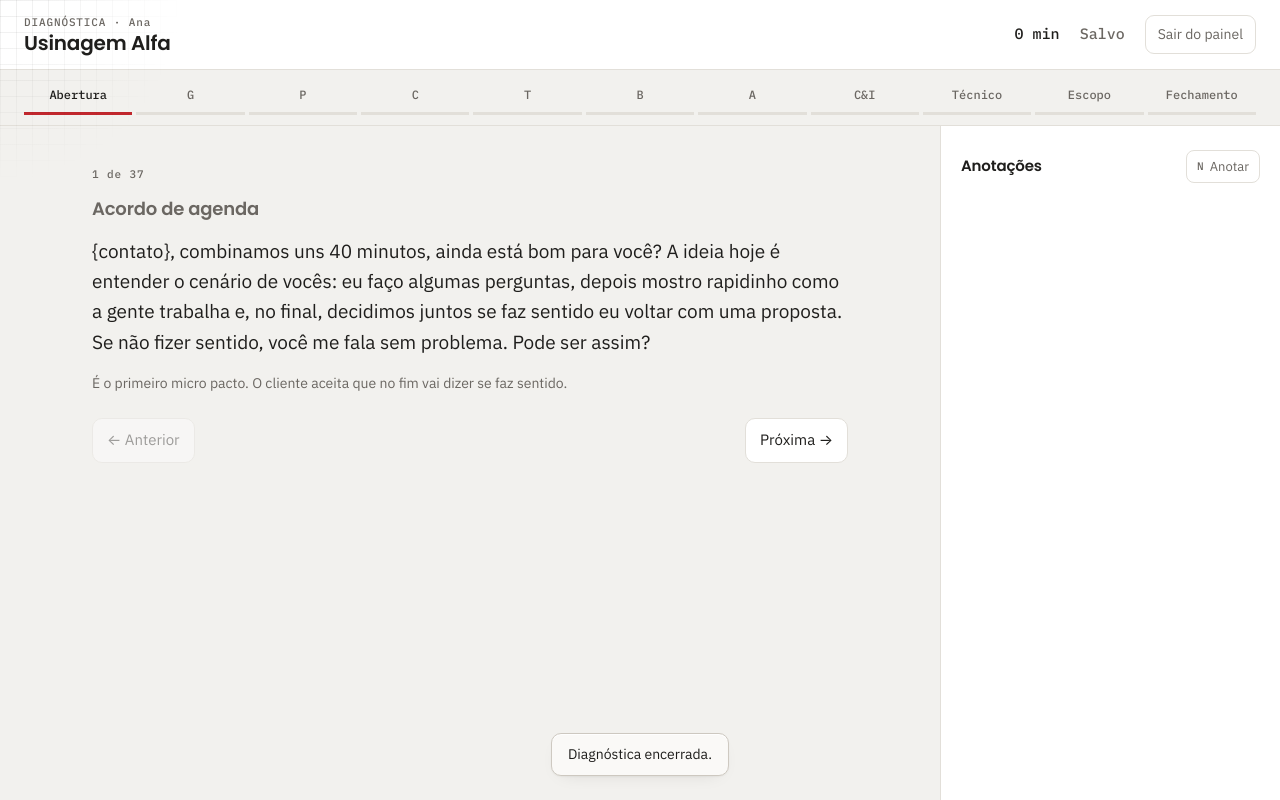
sem internet aparece no topo
Press Arrowright Arrowright
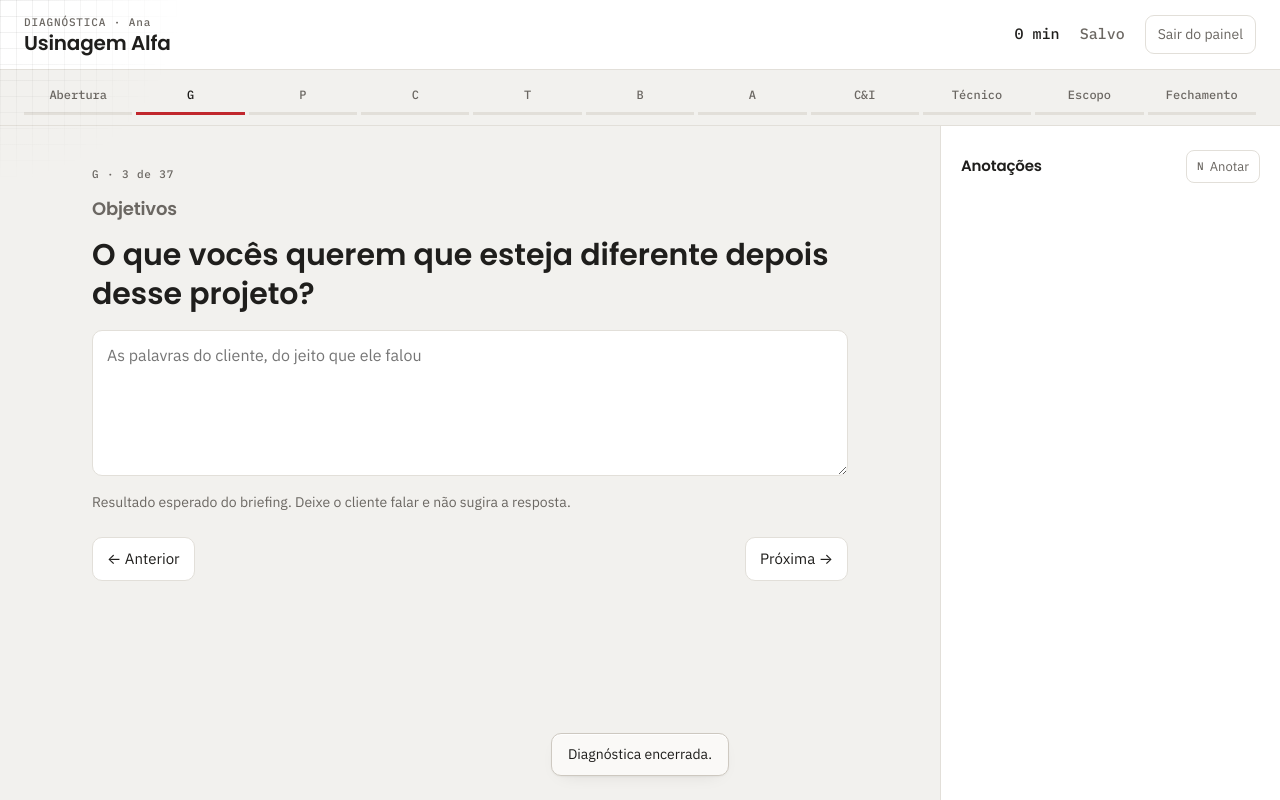
Type "Chegar a 26 °C" into the text box named "Resposta" at (470,403), box [92,330,848,476]
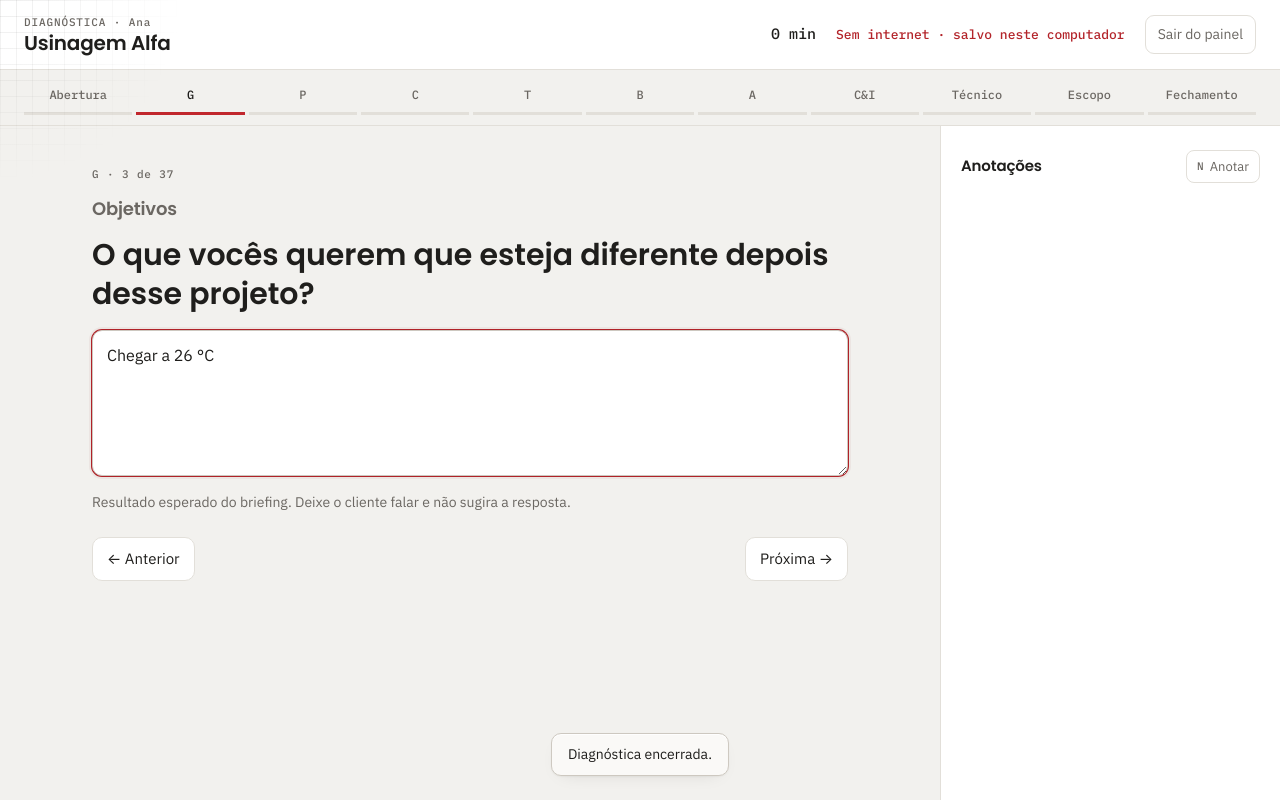
Expected: the text "Sem internet · salvo neste computador" is shown, [836,24,1125,44]
